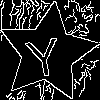Y: (23, 28, 63, 79)
